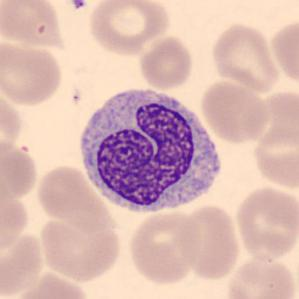Monocyte: (73, 82, 229, 222)
Platelets: (69, 0, 88, 11)
RBC: (35, 212, 124, 284), (126, 206, 203, 286), (208, 20, 282, 94), (176, 202, 243, 281), (233, 184, 298, 263), (34, 162, 111, 228), (86, 0, 172, 57), (198, 78, 272, 144), (0, 39, 65, 107), (246, 87, 298, 162), (251, 119, 298, 192), (137, 34, 195, 92), (0, 0, 66, 50), (0, 229, 47, 298), (224, 255, 297, 299), (8, 269, 91, 299), (0, 142, 40, 202), (267, 17, 299, 89), (0, 89, 25, 157)
